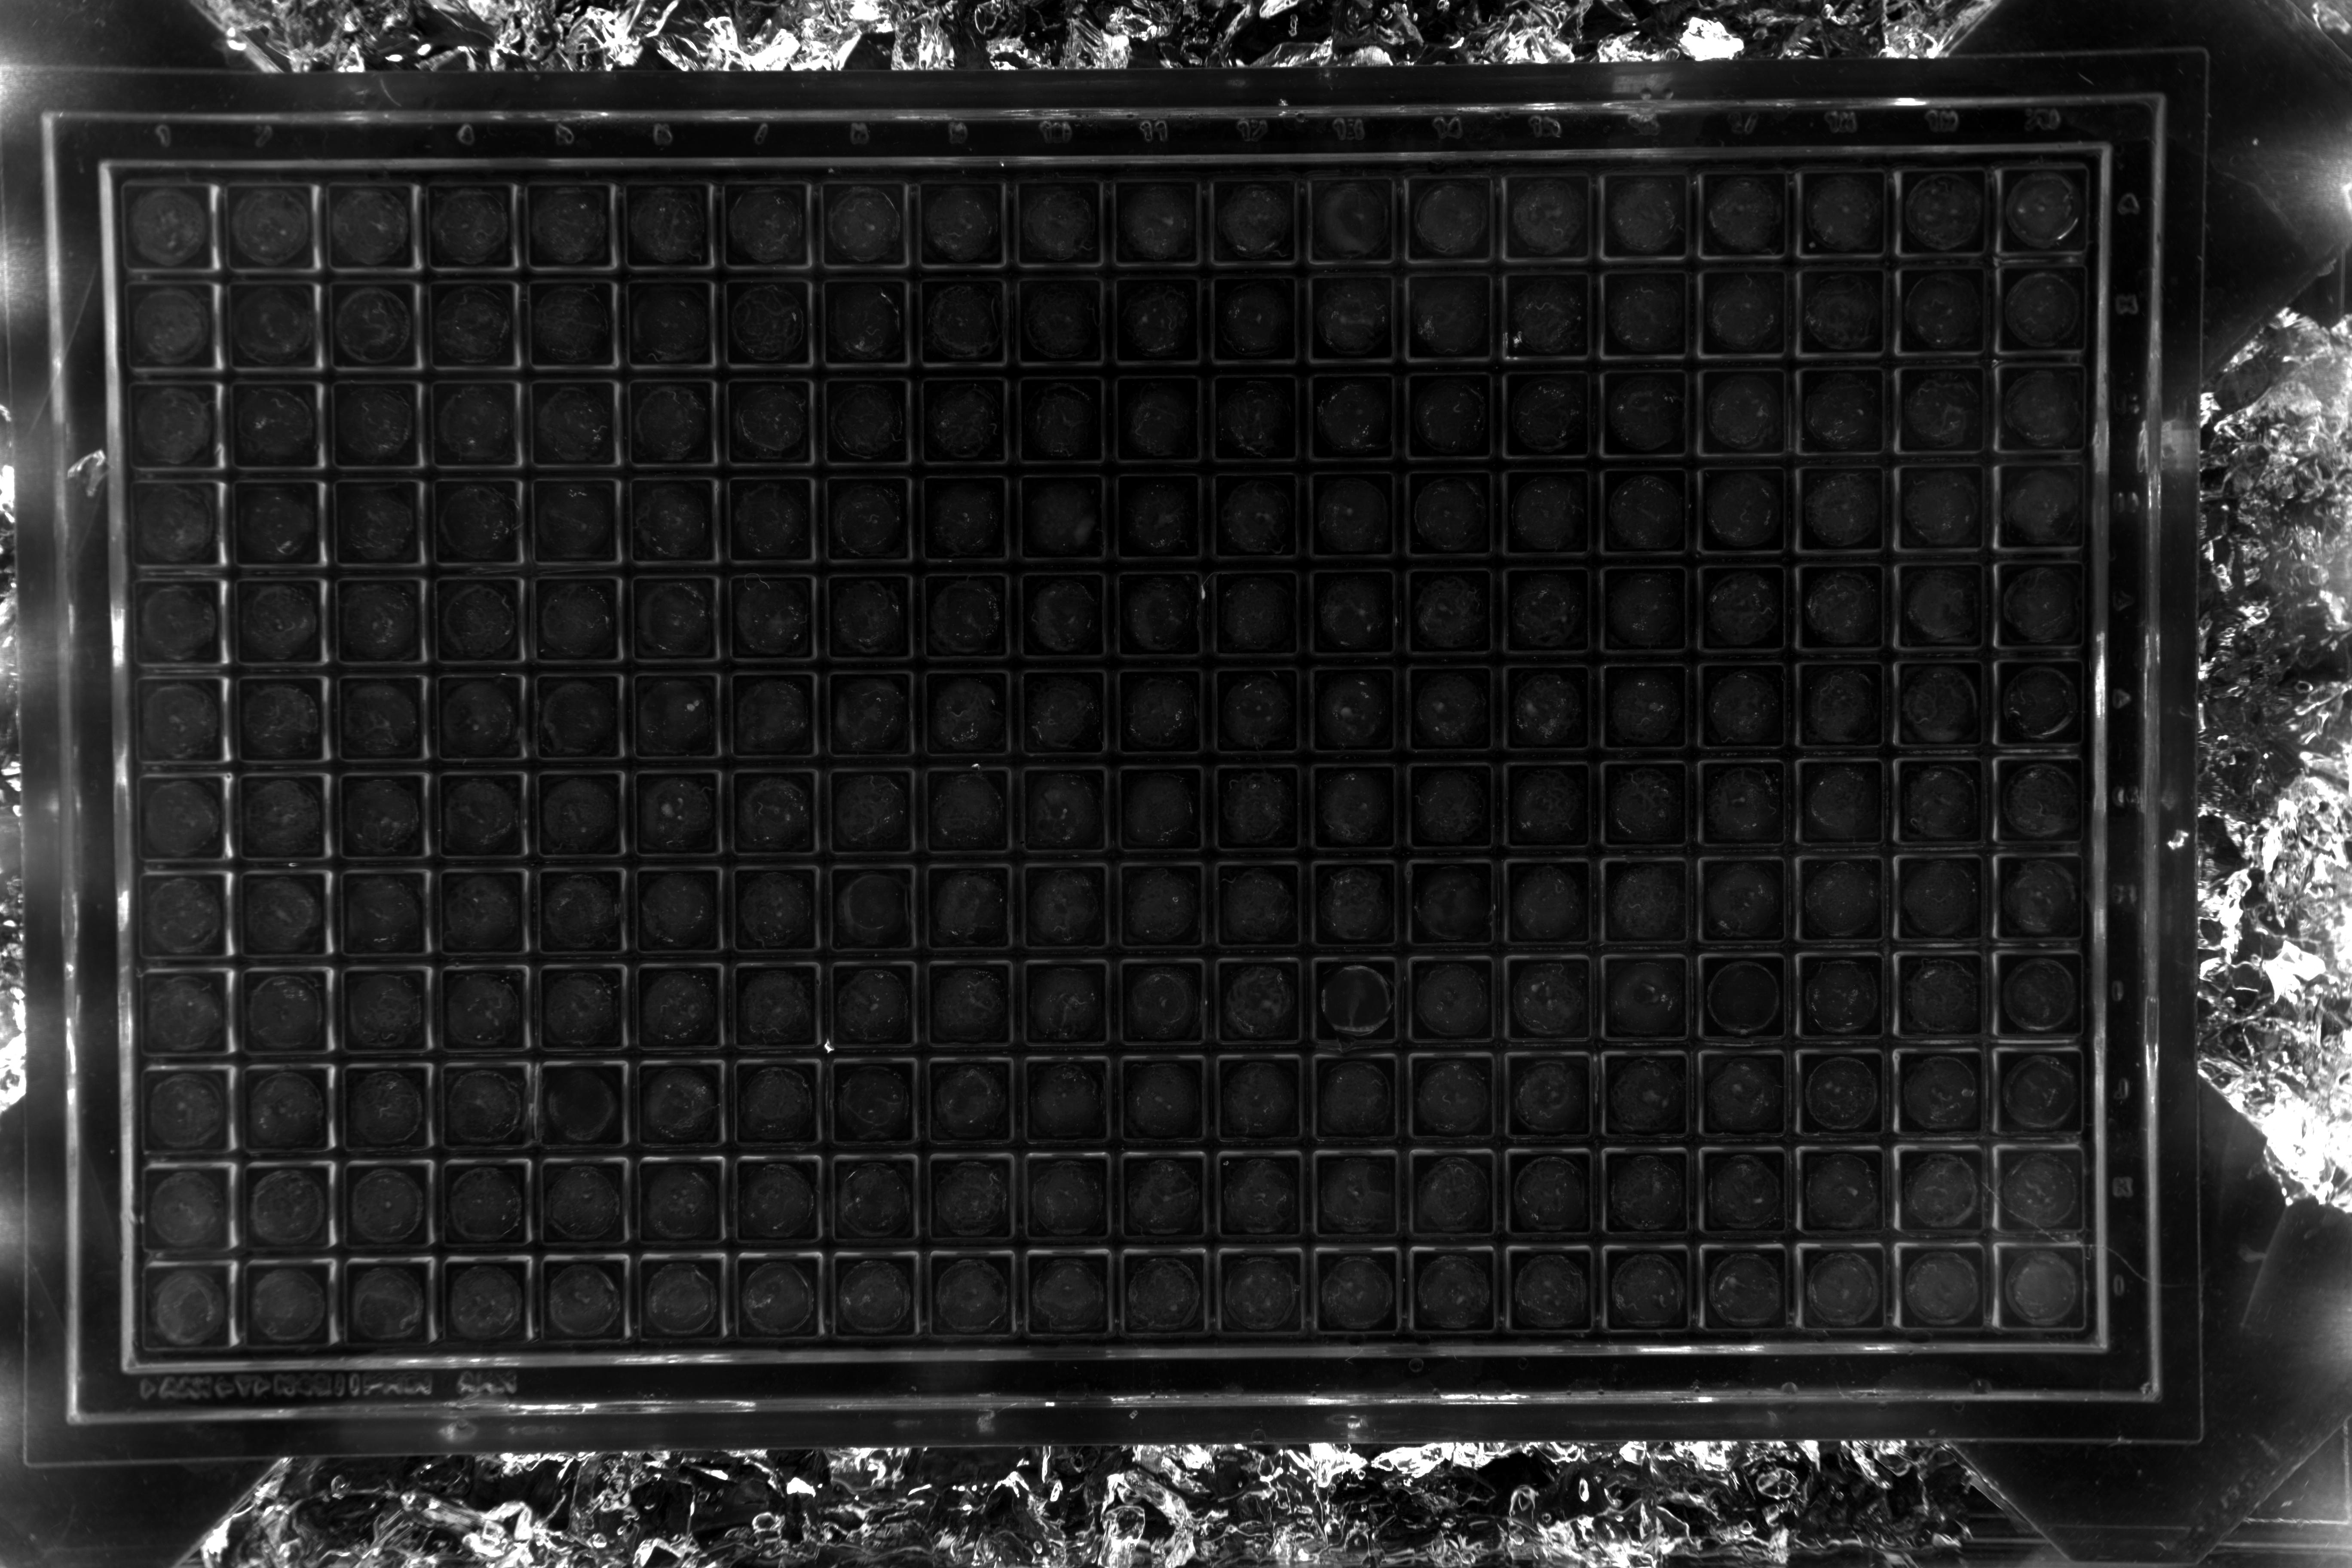WM_well: (203, 829, 292, 917), (395, 535, 485, 623), (495, 633, 584, 721), (1864, 231, 1953, 318), (399, 731, 486, 819), (488, 238, 576, 325), (497, 730, 584, 817), (499, 1020, 586, 1108), (595, 730, 682, 817), (885, 534, 973, 621), (887, 728, 975, 815), (887, 920, 975, 1008), (983, 726, 1071, 814), (1078, 338, 1165, 425), (1080, 824, 1167, 912), (1272, 1017, 1360, 1104), (1272, 822, 1360, 910), (1274, 338, 1361, 425), (1368, 1113, 1456, 1200), (1468, 532, 1556, 619), (1468, 434, 1556, 521), (1858, 822, 1946, 910), (2054, 1213, 2142, 1300), (2058, 821, 2145, 908)
